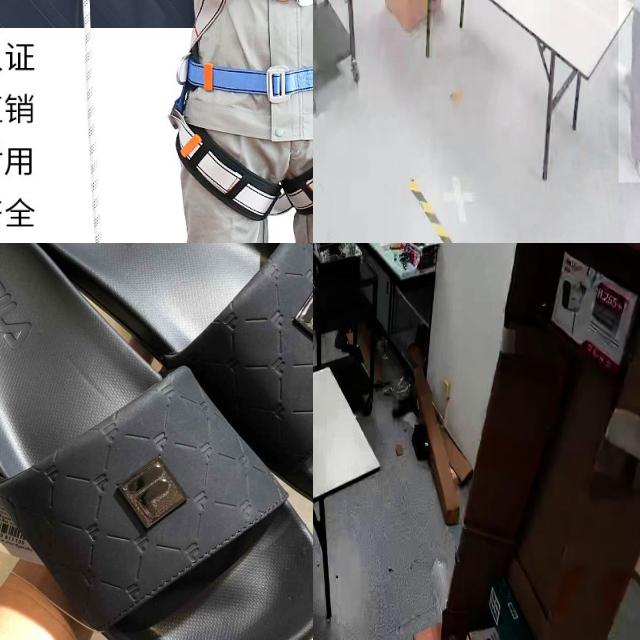Harness: (178, 0, 313, 217)
Sandals: (0, 243, 313, 640)
shoes: (630, 142, 640, 184)
